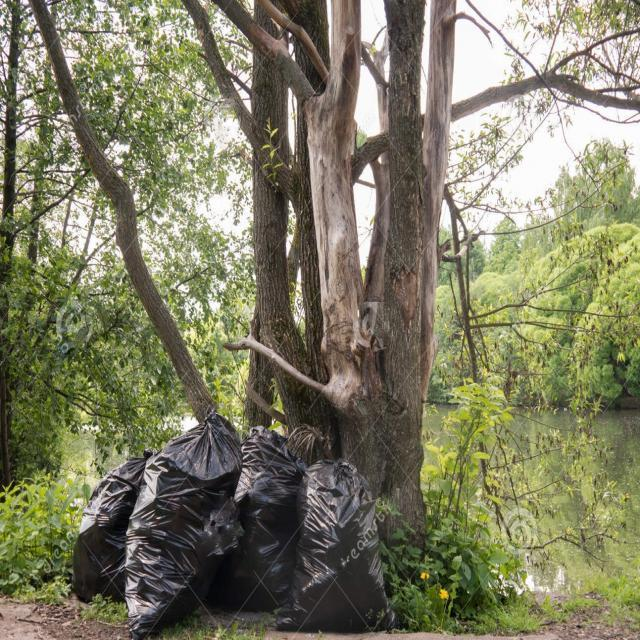garbage: (42, 411, 393, 640)
